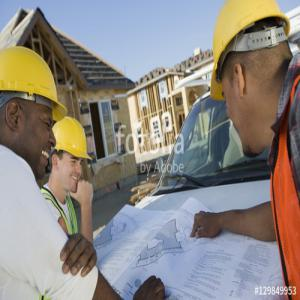yellow: (212, 4, 292, 159), (2, 47, 58, 182), (50, 115, 88, 196)
